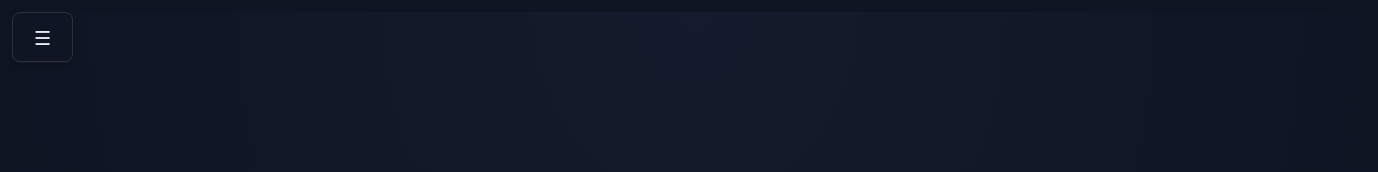
Test: UI smoke (new components) › HamburgerMenu toggles open and closes after item click
This screenshot has width=1378, height=172.
Click the button with class "hamburger-toggle".
click(43, 37)  # box [12,12,73,62]
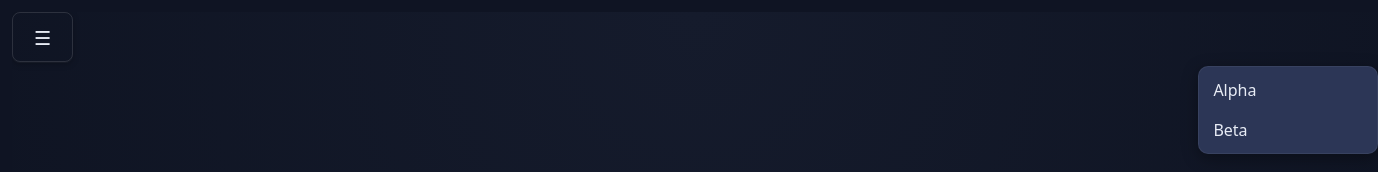
Expected: the menu with class "hamburger-menu" is shown, [1198,66,1377,154]
Click the menu item "Alpha".
click(1288, 90)  # box [1204,72,1372,108]
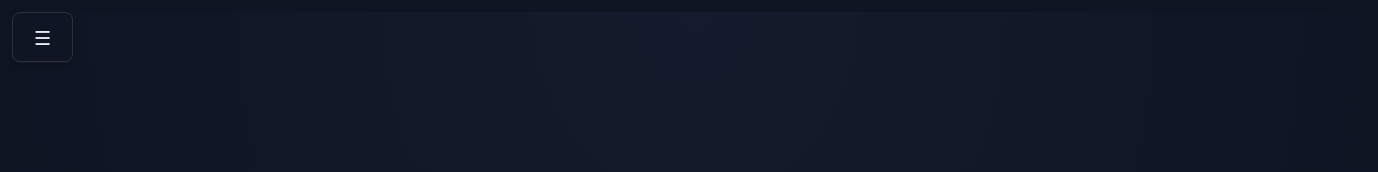
Expected: the menu with class "hamburger-menu" is gone
